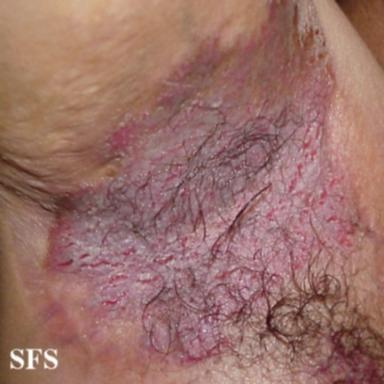Hailey-Hailey-Disease: (50, 2, 357, 358), (320, 326, 384, 384)
